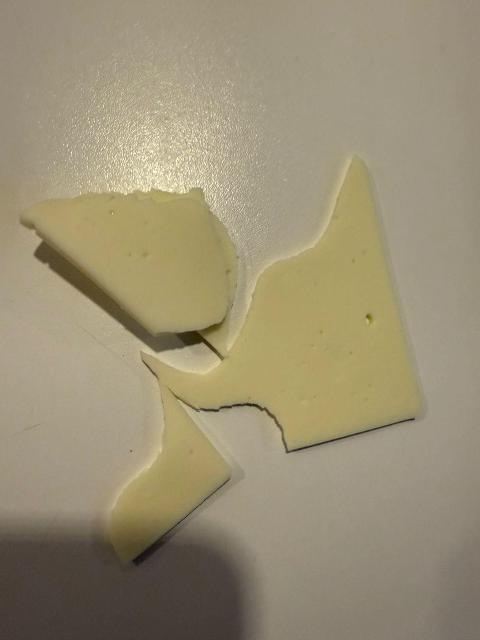Organik: (144, 157, 425, 425), (16, 184, 240, 352), (79, 381, 233, 571)
